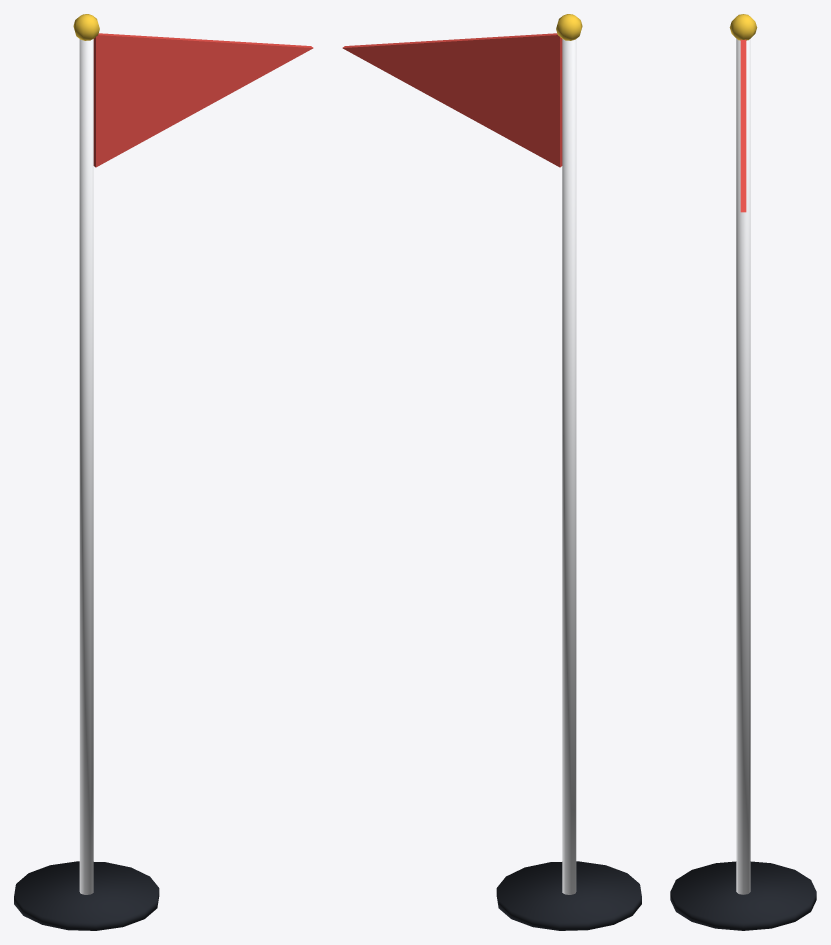
File: golf_flag.glb
3 views of the same model, side by side, from view 1: azimuth 30°, elevation 25°; view 2: azimuth 150°, elevation 25°; view 3: azimuth 270°, elevation 25° (orthographic).
Parts seen in each view (by area): view 1: golf_flag; view 2: golf_flag; view 3: golf_flag.
Part boxes in pixels (x1,y1,x2,y2): golf_flag: [14, 14, 313, 930]; golf_flag: [342, 14, 641, 930]; golf_flag: [670, 14, 816, 930].
Size of the model in its own units: 0.73 by 2.13 by 0.32.
